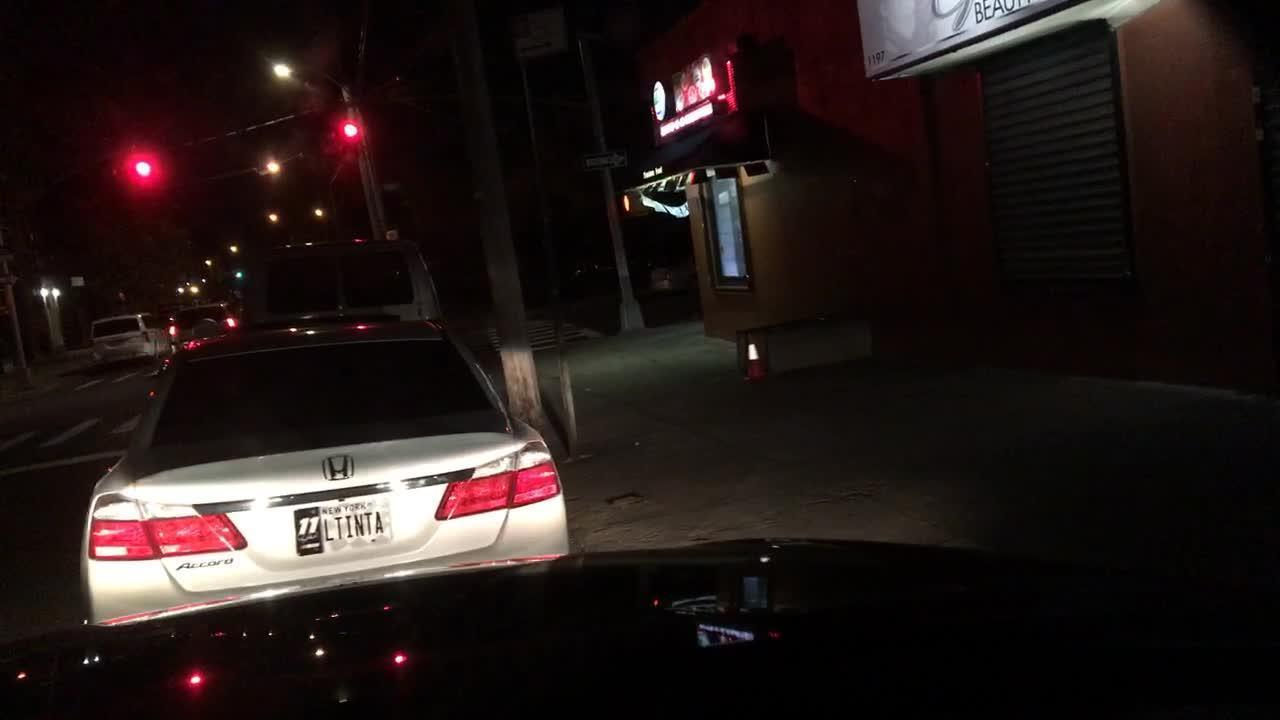Honda: (314, 447, 372, 492)
